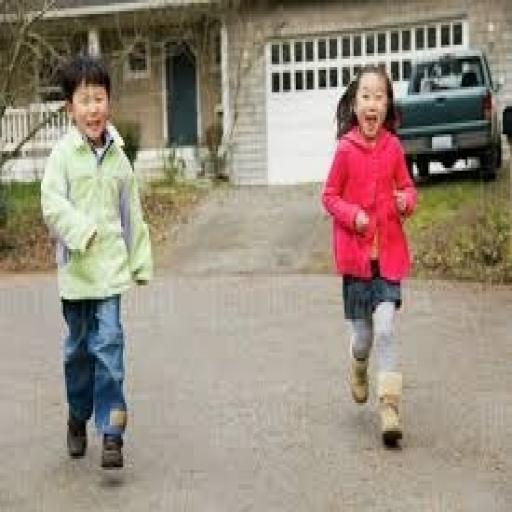running: (37, 50, 155, 473), (318, 62, 421, 450)
